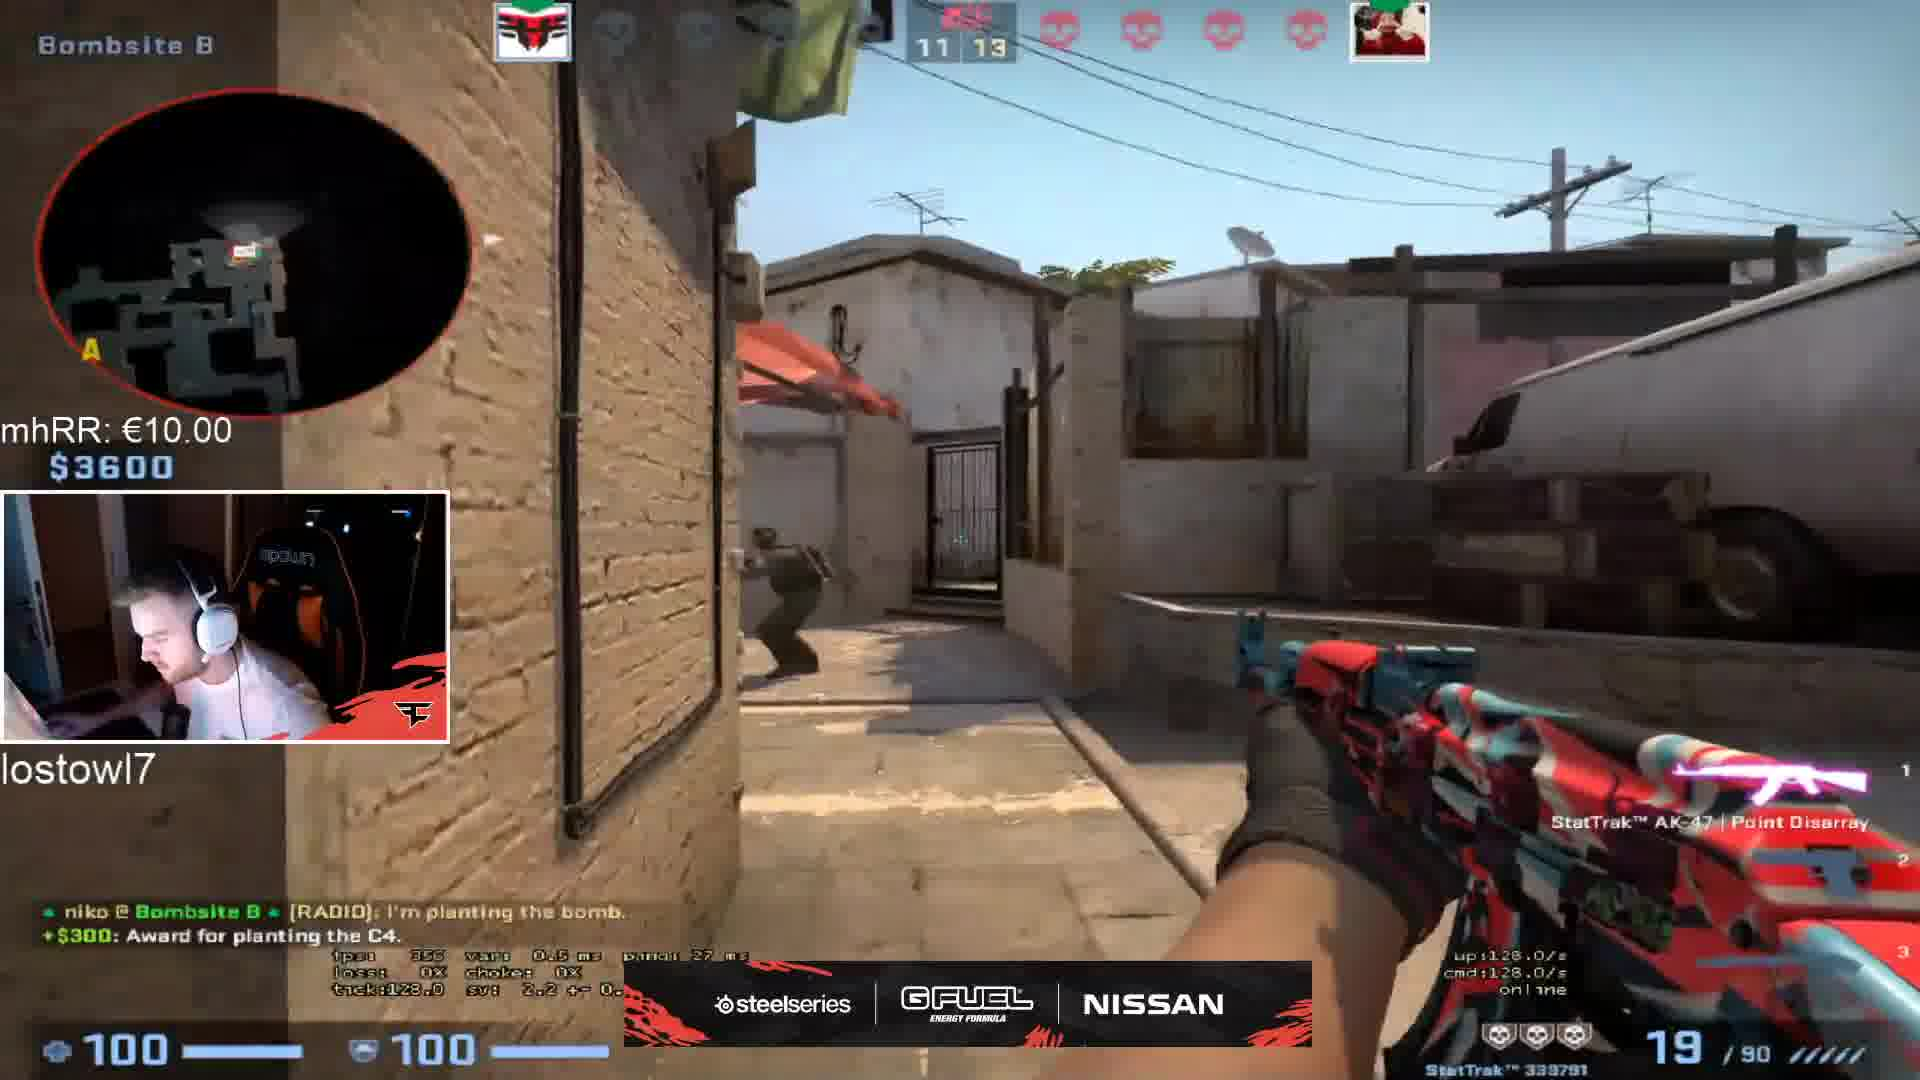enemy: (742, 526, 847, 680)
